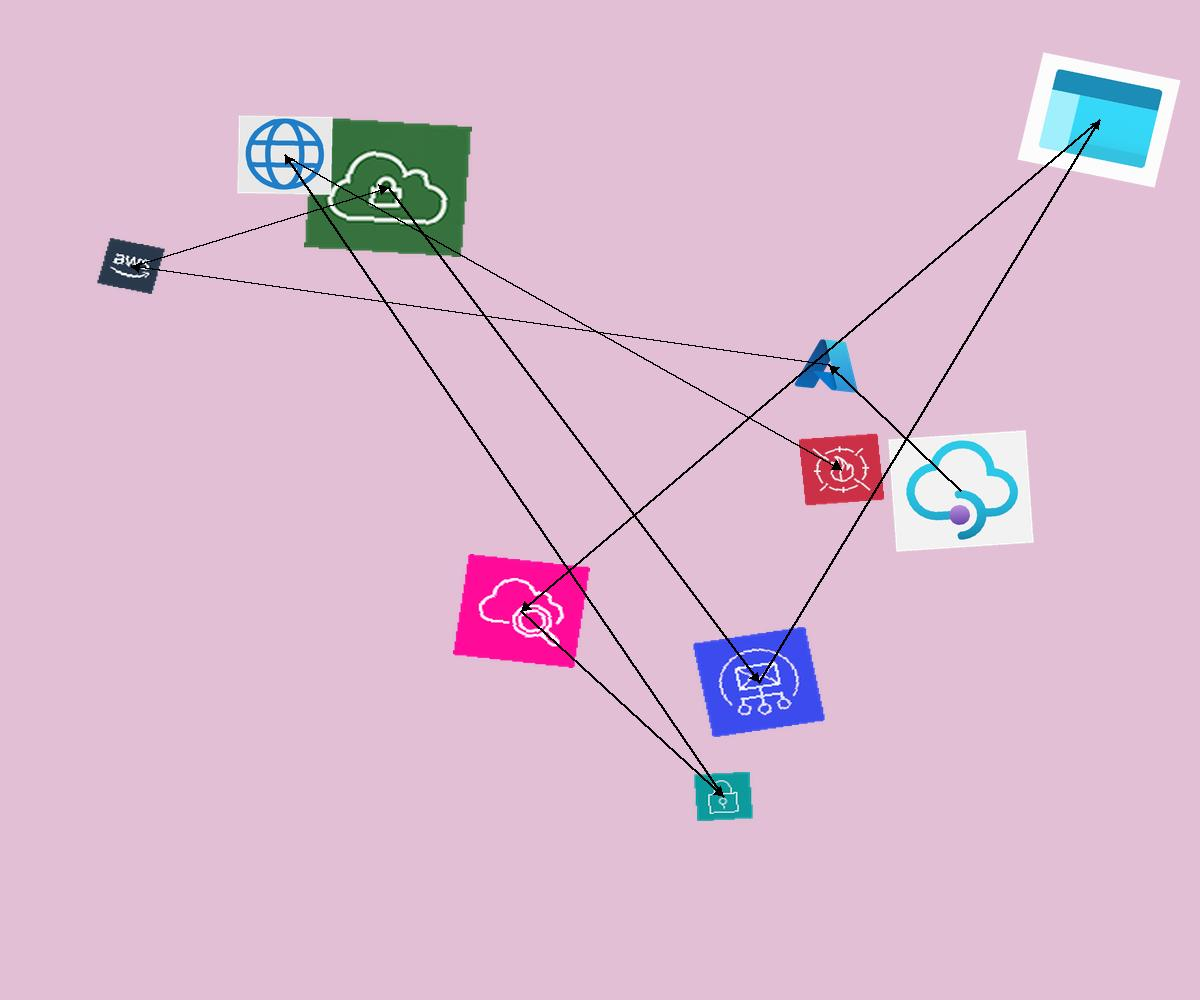AWS-Cloud-logo: (96, 237, 166, 295)
AWS-CloudWatch: (453, 554, 590, 668)
AWS-Private-subnet: (693, 771, 754, 822)
AWS-Private_vpc: (304, 117, 472, 257)
AWS-Simple-Email-Service: (692, 626, 826, 738)
AWS-WAF: (798, 433, 885, 506)
Azure_api_gateway: (888, 430, 1034, 552)
Azure_http: (237, 115, 333, 195)
Azure_management-portal: (1017, 52, 1181, 188)
Azure_services: (791, 333, 868, 397)
